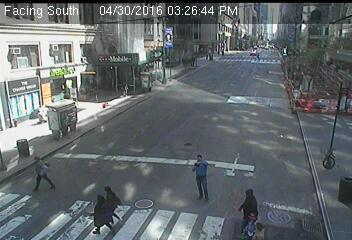neg: (132, 179, 158, 215), (270, 117, 292, 146), (286, 63, 307, 91), (98, 140, 118, 167), (109, 70, 129, 96), (190, 48, 209, 73), (314, 144, 332, 169), (155, 95, 173, 119), (155, 29, 173, 52), (56, 100, 72, 122), (232, 41, 248, 63)
pos: (229, 186, 267, 237), (181, 154, 219, 204), (85, 192, 116, 234), (95, 183, 123, 220), (25, 154, 53, 191)
